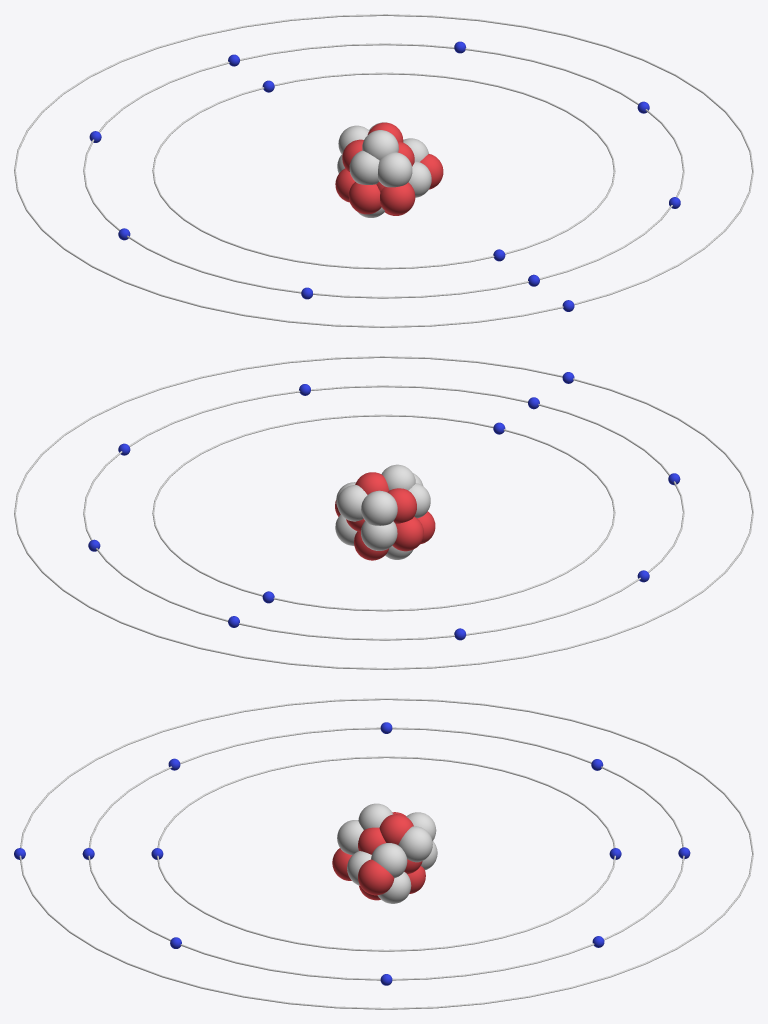
The model's file is Natrium.glb.
The picture shows the model from 3 angles, top to bottom: view 1: azimuth 30°, elevation 25°; view 2: azimuth 150°, elevation 25°; view 3: azimuth 270°, elevation 25°; orthographic projection.
Visible parts, largest first — view 1: M-Schale, L-Schale, K-Schale, Neutron 10, Proton 10, Proton 7, Neutron 7, Neutron 11, Neutron 4; view 2: M-Schale, L-Schale, K-Schale, Neutron 9, Neutron 8, Neutron 12, Proton 8, Proton 9, Neutron 11, Proton 6; view 3: M-Schale, L-Schale, K-Schale, Proton 11, Neutron 12, Neutron 6, Proton 6, Neutron 10, Neutron 11, Neutron 5, Proton 2.
Part boxes in pixels (x1,y1,x2,y2): M-Schale: (14,14,753,327); L-Schale: (83,43,684,298); K-Schale: (152,72,615,269); Neutron 10: (378,152,412,187); Proton 10: (380,182,415,215); Proton 7: (348,182,381,214); Neutron 7: (349,150,379,184); Neutron 11: (362,130,398,160); Neutron 4: (408,161,431,197); M-Schale: (14,356,753,669); L-Schale: (83,385,684,640); K-Schale: (152,414,615,611); Neutron 9: (361,490,397,525); Neutron 8: (361,521,397,550); Neutron 12: (337,485,367,521); Proton 8: (392,516,423,551); Proton 9: (387,488,416,523); Neutron 11: (381,464,415,490); Proton 6: (355,472,388,494); M-Schale: (19,698,753,1009); L-Schale: (88,727,684,980); K-Schale: (157,756,615,951); Proton 11: (358,859,394,895); Neutron 12: (398,826,432,862); Neutron 6: (371,843,407,877); Proton 6: (379,814,413,844); Neutron 10: (337,820,363,855); Neutron 11: (358,803,393,829); Neutron 5: (377,872,411,903); Proton 2: (358,827,385,854).
Bounding box in the file's own units: 16.04 × 2.09 × 16.15.
